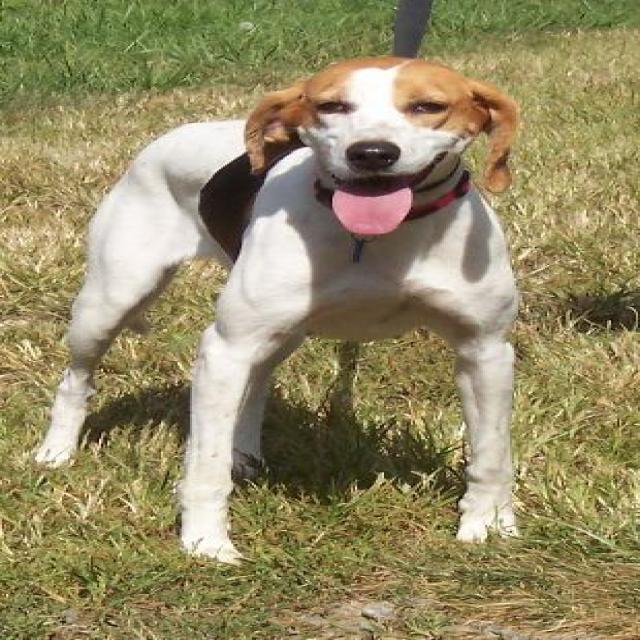adult_dog: (32, 0, 524, 568)
